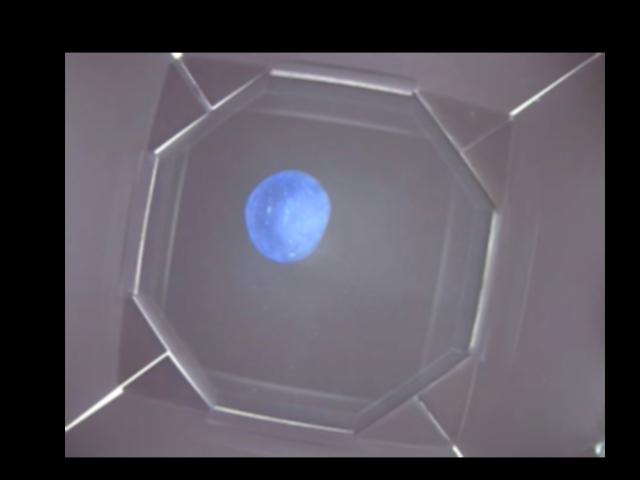Potato: (241, 167, 329, 266)
